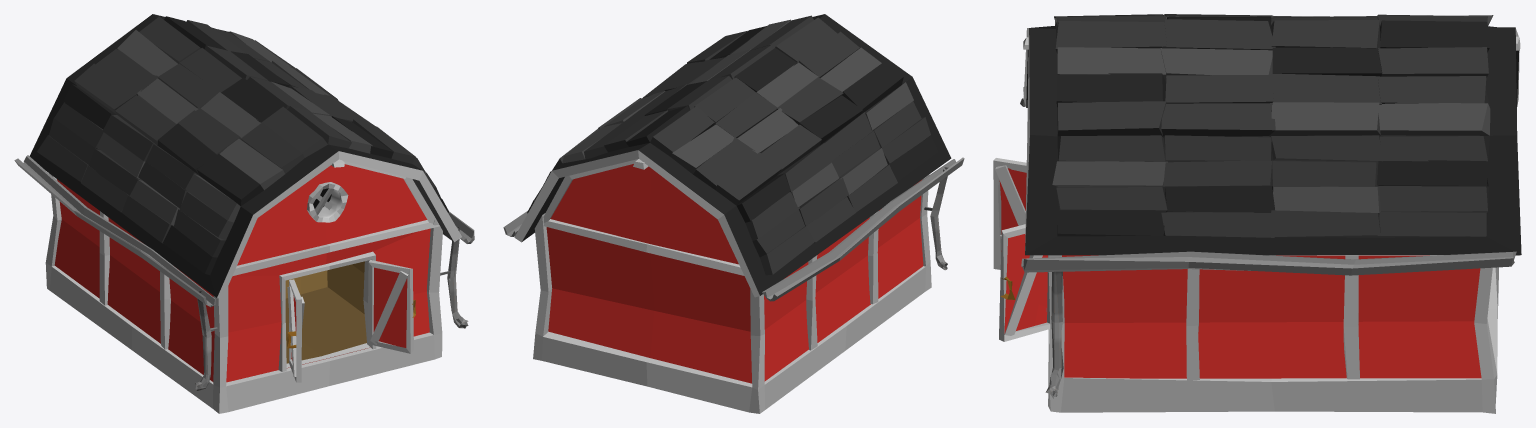
File: red barn.fbx
3 renders of one model, left to right at view 1: azimuth 30°, elevation 25°; view 2: azimuth 150°, elevation 25°; view 3: azimuth 270°, elevation 25°, orthographic. The views are drawn at different scales.
Visible parts, largest first — view 1: red barn_LOD0; view 2: red barn_LOD0; view 3: red barn_LOD0.
Boxes of the visible parts, x1,y1,x2,y2 form: red barn_LOD0: [14, 14, 474, 413]; red barn_LOD0: [503, 14, 964, 413]; red barn_LOD0: [993, 14, 1521, 413].
Size of what is drawn, in the model's own units: 22.52 by 19.16 by 28.28.
